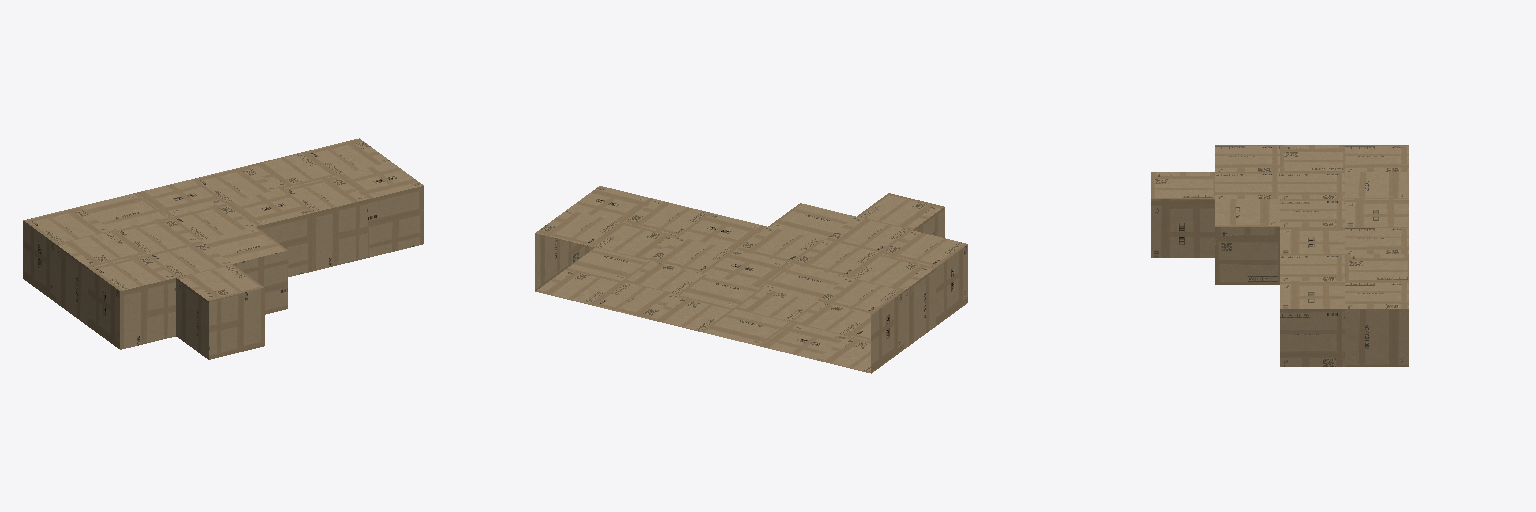
3 renders of one model, left to right at view 1: azimuth 30°, elevation 25°; view 2: azimuth 150°, elevation 25°; view 3: azimuth 270°, elevation 25°, orthographic.
Visible parts, largest first — view 1: cardboxes01; view 2: cardboxes01; view 3: cardboxes01.
Boxes of the visible parts, x1=… form: cardboxes01: x1=23, y1=138, x2=423, y2=359; cardboxes01: x1=535, y1=186, x2=967, y2=373; cardboxes01: x1=1151, y1=145, x2=1408, y2=366.
Size of the model in its own units: 3.6 by 0.6 by 2.4.
4 materials, 1 textured.